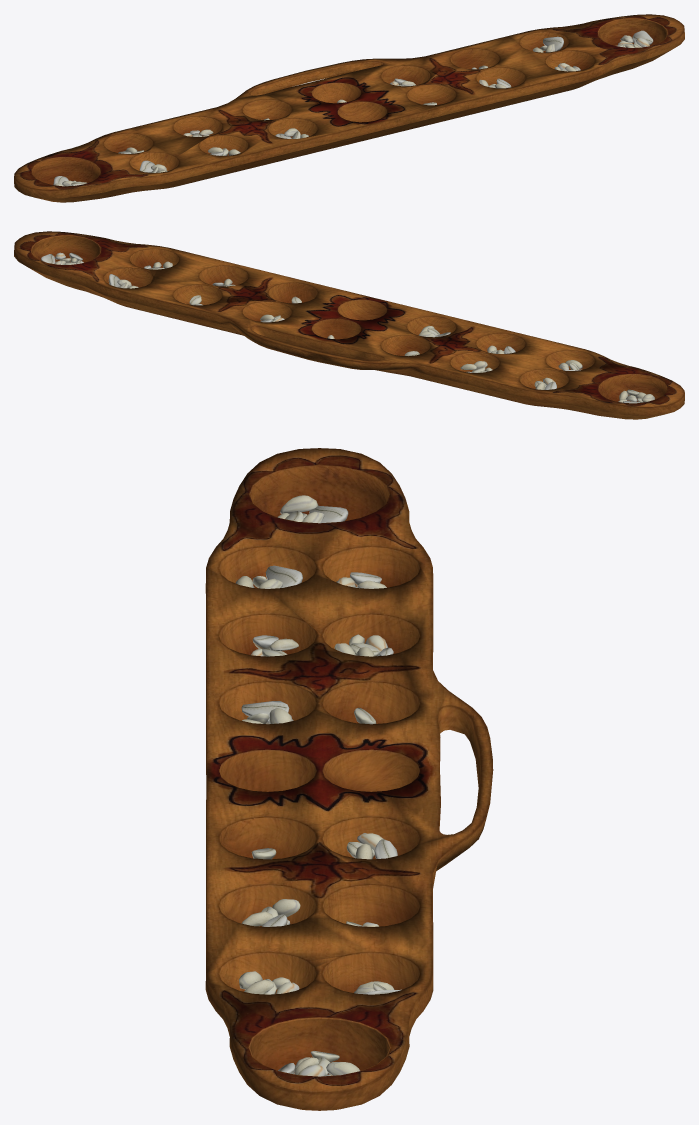
The model's file is sungka_board_02.glb.
3 renders of one model, top to bottom at view 1: azimuth 30°, elevation 25°; view 2: azimuth 150°, elevation 25°; view 3: azimuth 270°, elevation 25°, orthographic. The views are drawn at different scales.
Parts seen in each view (by area): view 1: sungka_board_02; view 2: sungka_board_02; view 3: sungka_board_02.
Part boxes in pixels (left/top/right/bottom): sungka_board_02: left=14, top=14, right=684, bottom=202; sungka_board_02: left=14, top=231, right=684, bottom=419; sungka_board_02: left=205, top=448, right=493, bottom=1110.
Size of the model in its own units: 0.9317 by 0.0258 by 0.1753.
Materials: 1 (1 with a texture image).
